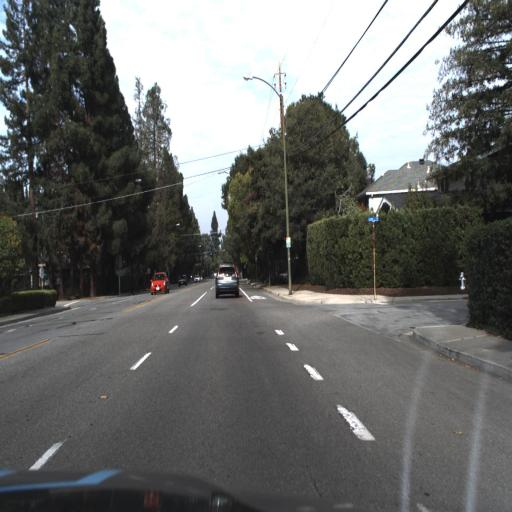car: (214, 259, 240, 299), (150, 270, 167, 295), (177, 274, 188, 286)
